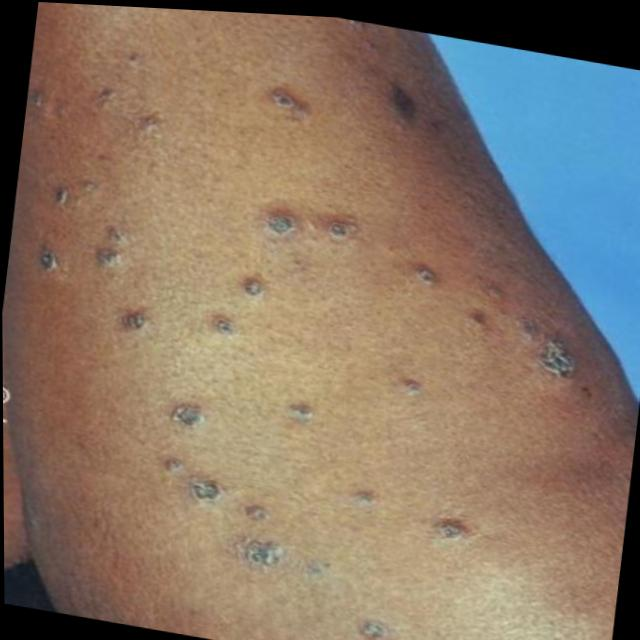Eczema: (0, 4, 627, 640)
